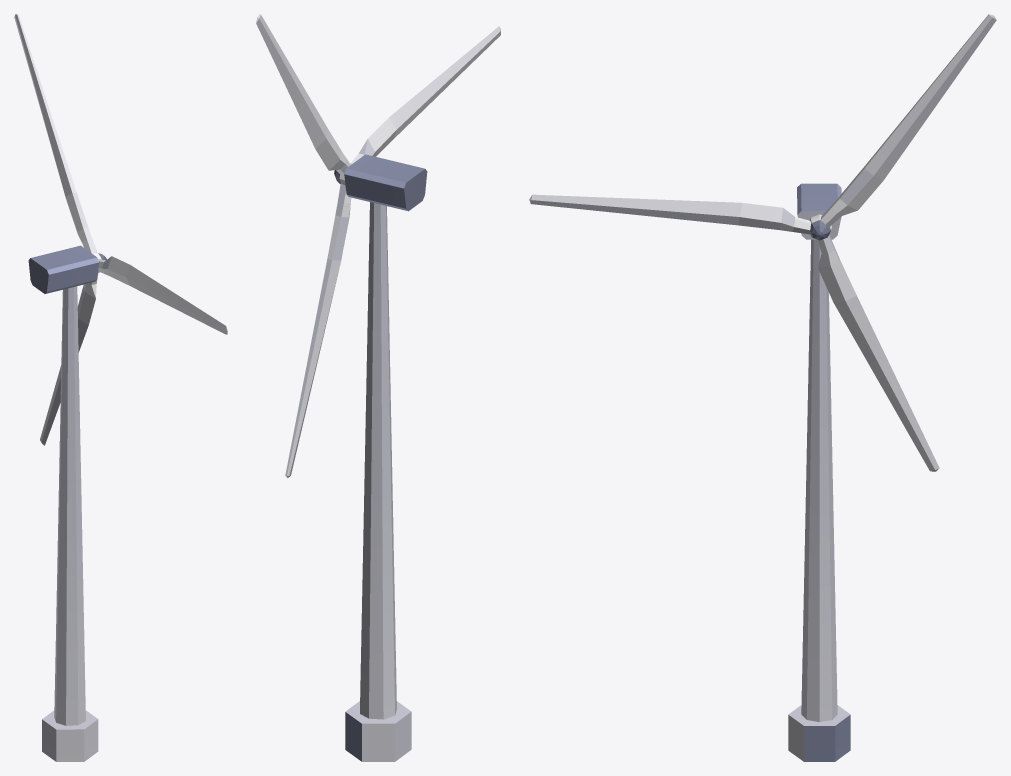
The model's file is wind_power.glb.
3 views of the same model, side by side, from view 1: azimuth 30°, elevation 25°; view 2: azimuth 150°, elevation 25°; view 3: azimuth 270°, elevation 25° (orthographic). The views are drawn at different scales.
Parts seen in each view (by area): view 1: Buildings_04_Buildings_04_0.001, fan; view 2: Buildings_04_Buildings_04_0.001, fan; view 3: Buildings_04_Buildings_04_0.001, fan.
Boxes of the visible parts, <box> form: Buildings_04_Buildings_04_0.001: <box>28,245,98,761</box>; fan: <box>14,14,227,445</box>; Buildings_04_Buildings_04_0.001: <box>344,154,427,761</box>; fan: <box>256,14,500,477</box>; Buildings_04_Buildings_04_0.001: <box>788,183,850,761</box>; fan: <box>529,14,996,471</box>.
Size of the model in its own units: 0.2814 by 2.66 by 1.5.
1 material, 1 textured.
